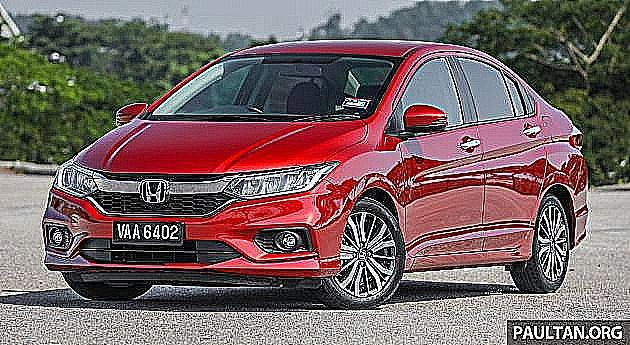Car hood: (69, 115, 368, 182)
Fender - -F-L-: (312, 98, 412, 240)
Fender - -R-L-: (527, 91, 584, 225)
Front bumper: (38, 173, 357, 285)
Headlight - -L-: (223, 161, 340, 202)
Headlight - -R-: (51, 161, 100, 200)
Passenger-s door - -F-L-: (387, 37, 487, 279)
Passenger-s door - -R-L-: (442, 35, 552, 276)
Side bumper - -L-: (397, 223, 545, 281)
Side mirror - -L-: (389, 101, 449, 146)
Side mirror - -R-: (109, 100, 153, 127)
